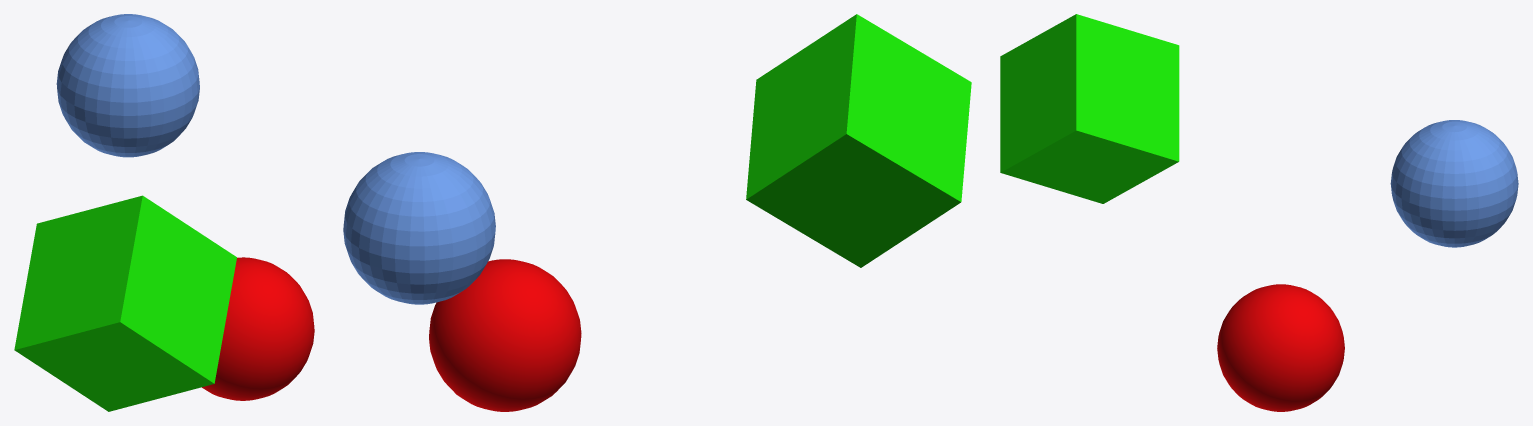
Rendered from shapes.gltf.
The picture shows the model from 3 angles, left to right: view 1: azimuth 30°, elevation 25°; view 2: azimuth 150°, elevation 25°; view 3: azimuth 270°, elevation 25°; orthographic projection. The views are drawn at different scales.
Visible parts, largest first — view 1: Cube, Sphere.001, Sphere; view 2: Cube, Sphere.001, Sphere; view 3: Cube, Sphere, Sphere.001.
Boxes of the visible parts, x1,y1,x2,y2 form: Cube: (14,195,236,411); Sphere.001: (56,14,199,157); Sphere: (202,257,314,400); Cube: (746,14,971,267); Sphere.001: (343,152,495,304); Sphere: (429,259,581,411); Cube: (1000,14,1179,203); Sphere: (1217,284,1344,411); Sphere.001: (1390,120,1518,247).
Bounding box in the file's own units: 6.28 × 5.15 × 8.11.
